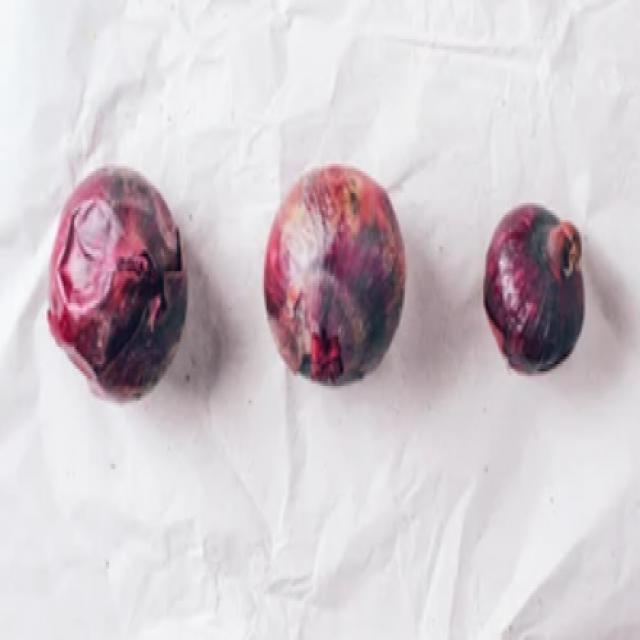rotten: (90, 208, 166, 360), (502, 268, 554, 372), (338, 239, 383, 320)
